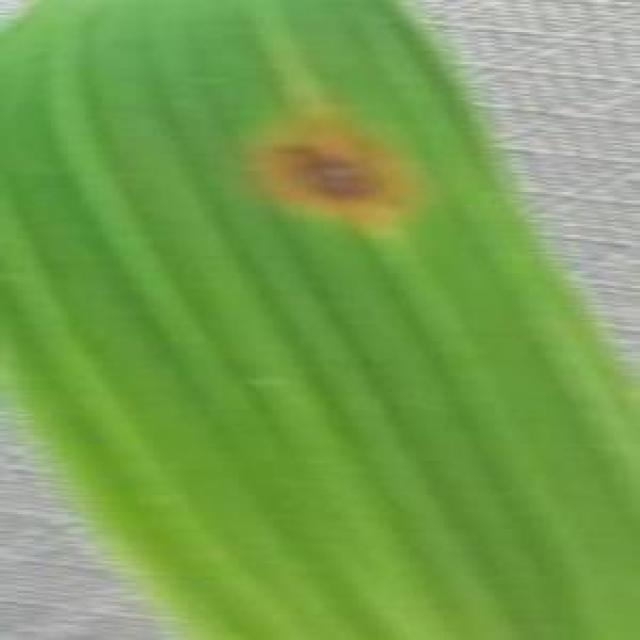Brown_Spot: (262, 108, 406, 243)
